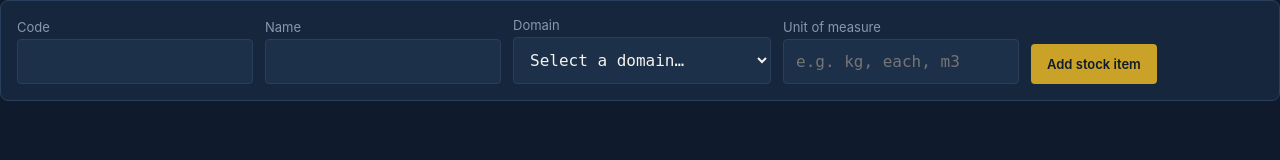
CreateStockItemForm › shows an error message when the action fails
Step 1. Type "SI-001" into the field labelled "Code" → (135, 62), box [17, 39, 253, 84]
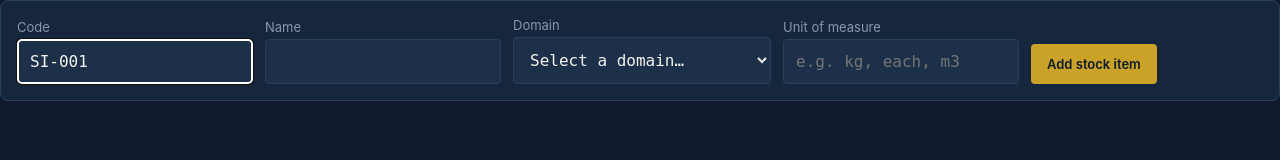
Step 2. Type "Portland Cement 50kg" into the field labelled "Name" → (383, 62), box [265, 39, 501, 84]
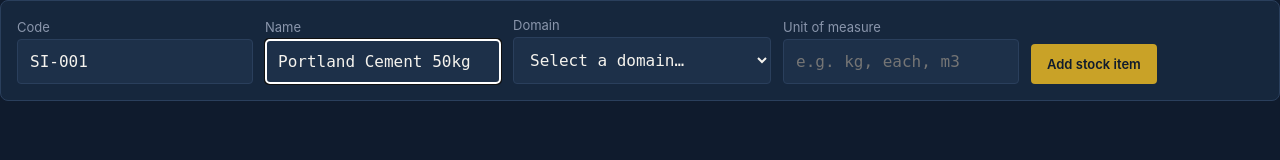
Step 3. Select "Construction materials" in the dropdown labelled "Domain" → (642, 60), box [513, 37, 771, 84]
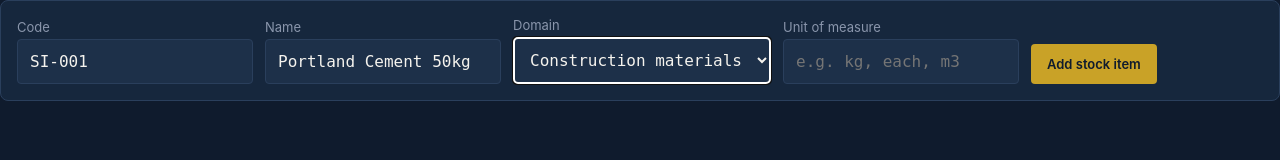
Step 4. Type "bag" into the field labelled "Unit of measure" → (901, 62), box [783, 39, 1019, 84]
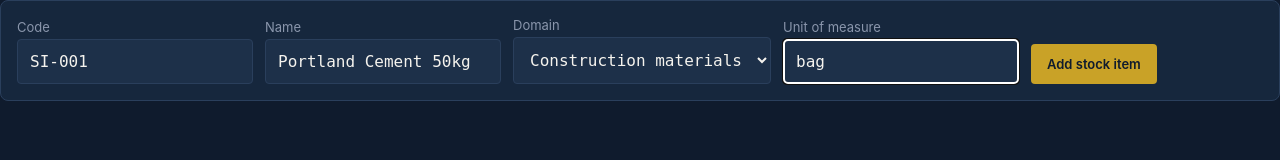
Step 5. Click the button "Add stock item" → click(1094, 64), box [1031, 44, 1157, 84]
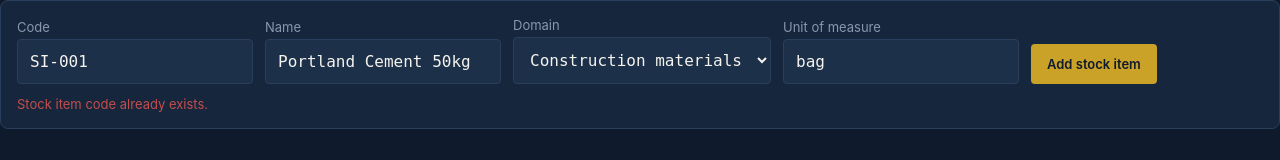
Expected: the text "Stock item code already exists." is shown, [17, 96, 208, 112]
